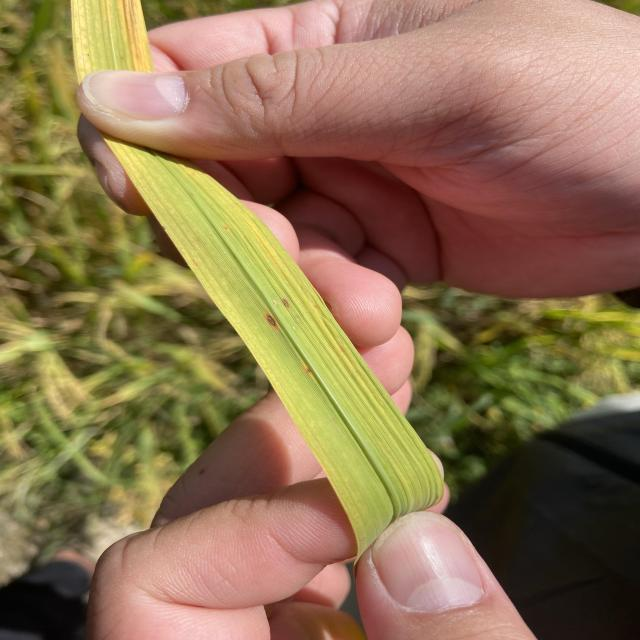Dom nau: (266, 314, 277, 327), (282, 299, 289, 307), (307, 369, 310, 373)
